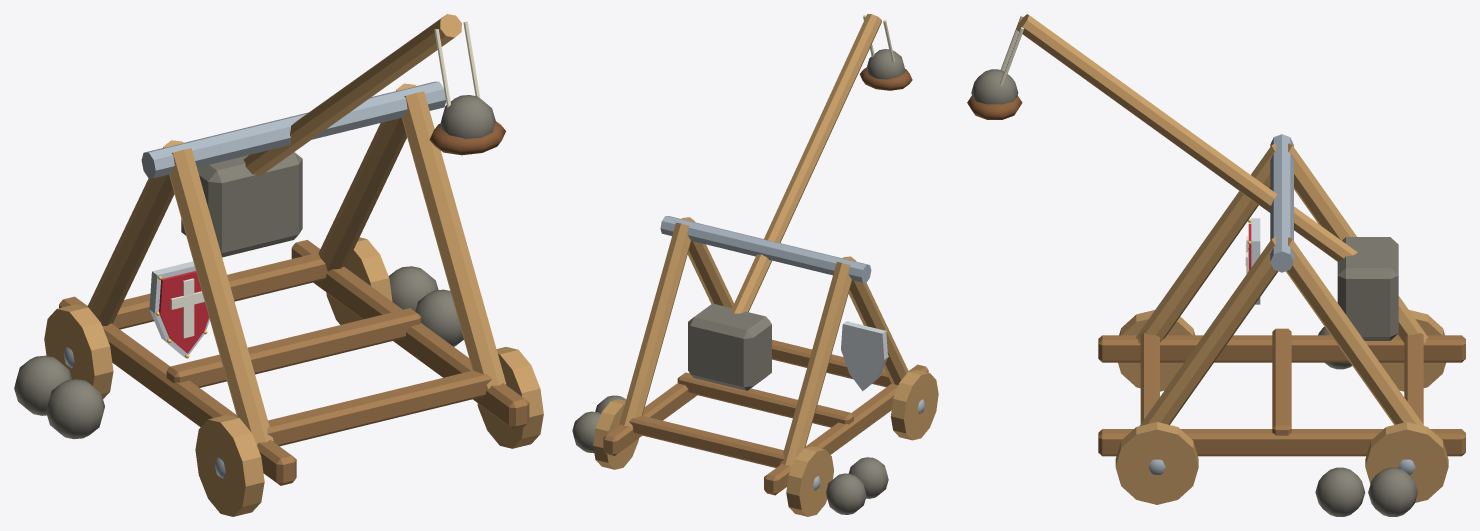
File: unit_trebuchet_red.glb
3 views of the same model, side by side, from view 1: azimuth 30°, elevation 25°; view 2: azimuth 150°, elevation 25°; view 3: azimuth 270°, elevation 25° (orthographic). The views are drawn at different scales.
Visible parts, largest first — view 1: unit_trebuchet_red; view 2: unit_trebuchet_red; view 3: unit_trebuchet_red.
Part boxes in pixels (x1,y1,x2,y2): unit_trebuchet_red: (14,14,543,516); unit_trebuchet_red: (572,14,938,516); unit_trebuchet_red: (967,14,1465,516).
Size of the model in its own units: 2.86 by 3.42 by 3.6.
